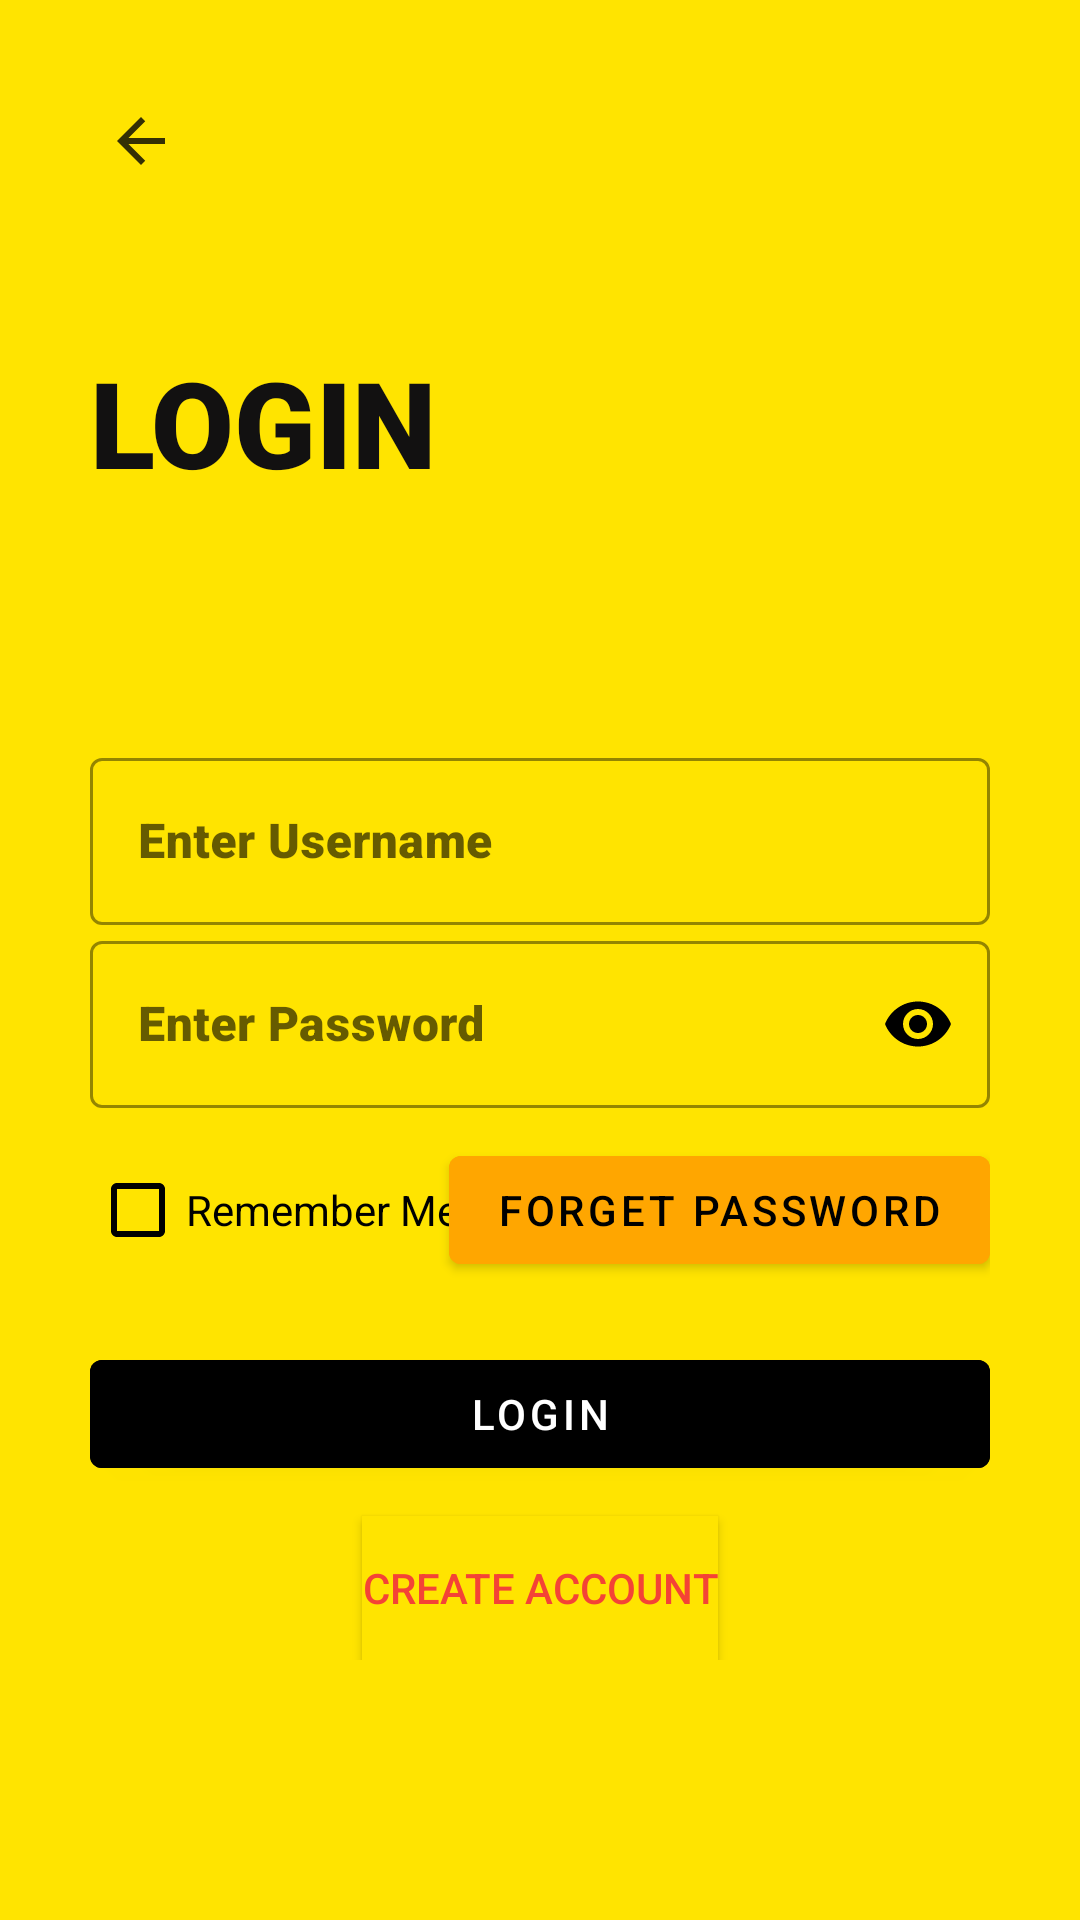

Icon bounding boxes for this 1080 x 1920 phone screenshot, format (x1, y1, x2, y2):
general back: (117, 117, 165, 165)
